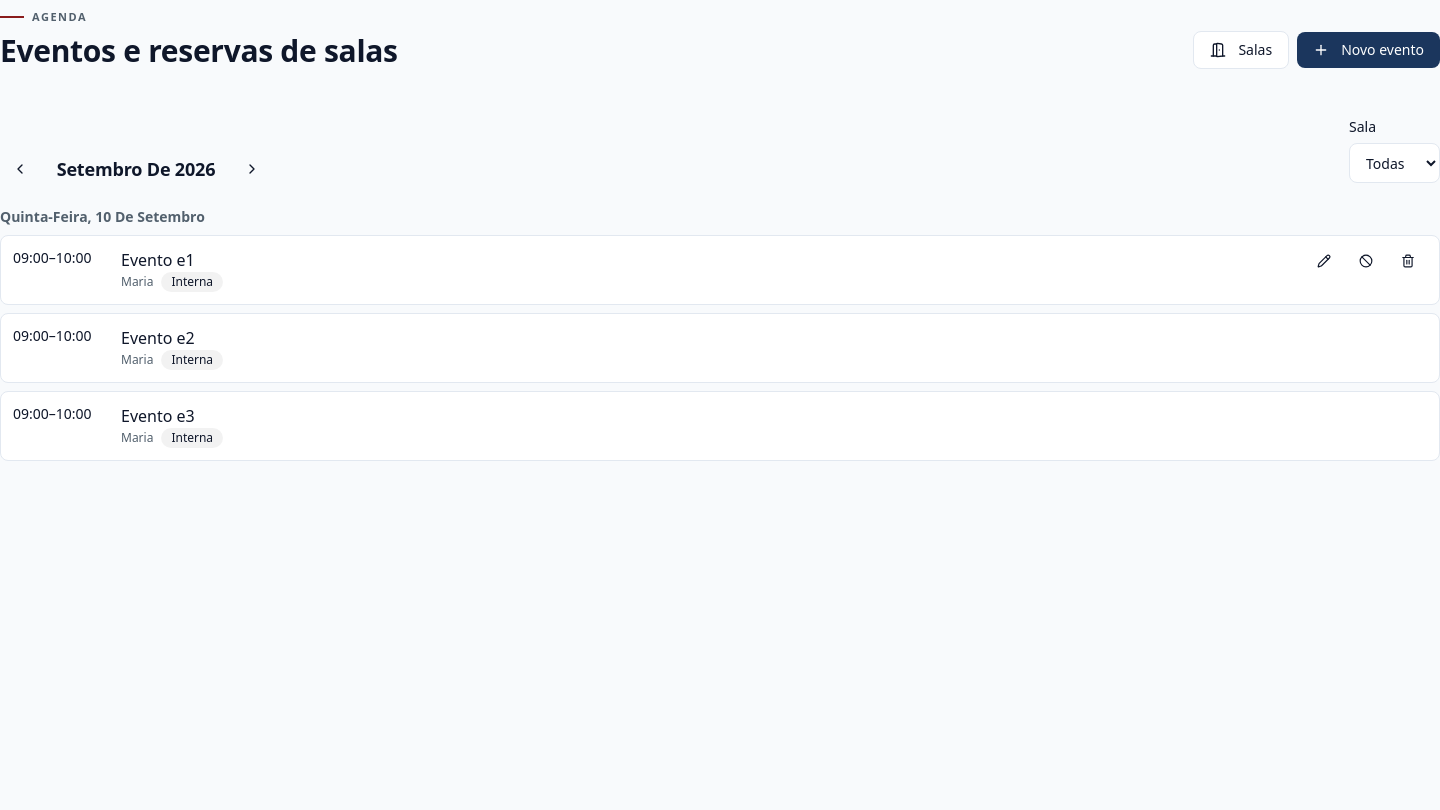
Test: Agenda › gestor com escopo (ADR 013): só as salas da unidade dele e os eventos reservados nelas
This screenshot has width=1440, height=810.
Expected: the button named "Editar Evento e1" is shown, [1305, 248, 1343, 274]
Click the button "Salas": [1241, 50] box [1193, 31, 1289, 69]
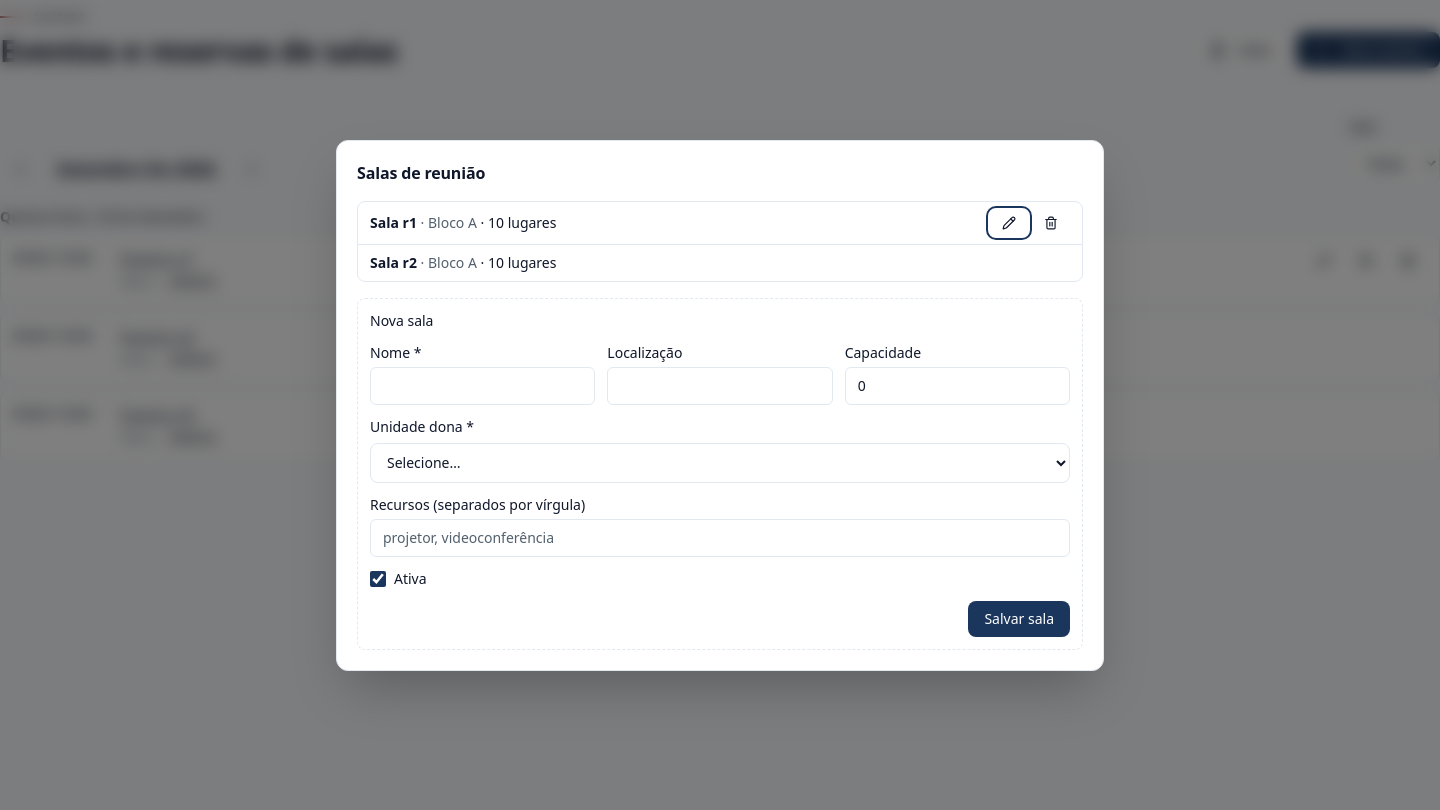
Expected: the button named "Editar Sala r1" is shown, [990, 210, 1028, 236]
